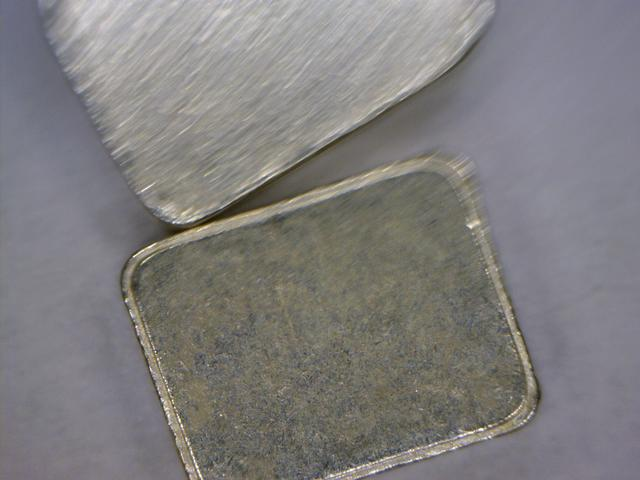nok: (82, 148, 567, 478)
